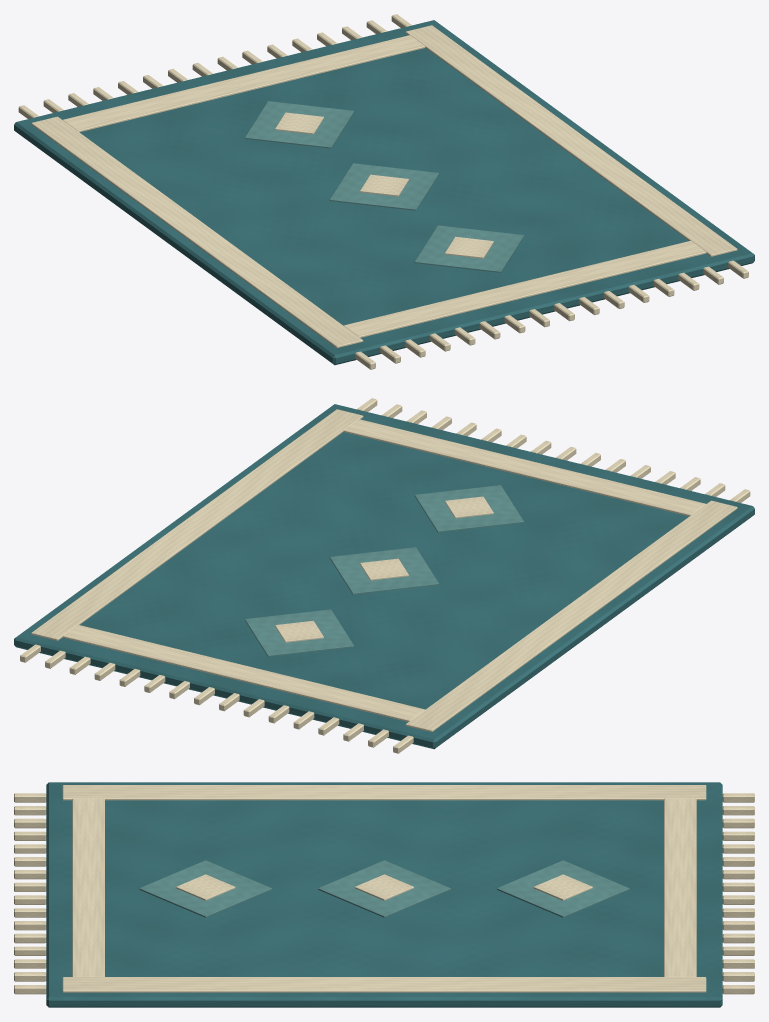
File: rug_woven_teal.glb
3 views of the same model, one above another, from view 1: azimuth 30°, elevation 25°; view 2: azimuth 150°, elevation 25°; view 3: azimuth 270°, elevation 25° (orthographic). The views are drawn at different scales.
Parts seen in each view (by area): view 1: rug_woven_teal; view 2: rug_woven_teal; view 3: rug_woven_teal.
Boxes of the visible parts, x1,y1,x2,y2 form: rug_woven_teal: [14, 14, 754, 369]; rug_woven_teal: [14, 398, 754, 753]; rug_woven_teal: [14, 782, 754, 1007].
Size of the model in its own units: 1.58 by 0.046 by 2.28.
1 material, 1 textured.
